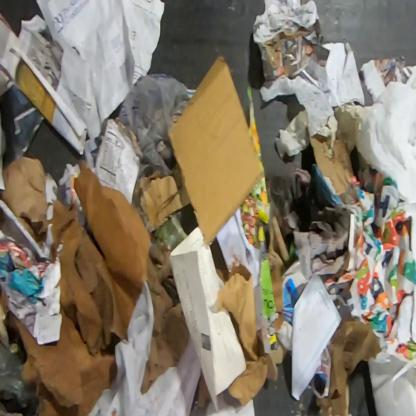cardboard: (0, 155, 152, 415), (166, 54, 264, 247), (216, 262, 290, 408), (315, 318, 384, 415), (299, 42, 366, 109), (138, 162, 190, 234), (304, 128, 355, 196), (264, 213, 293, 332)
soft_plastic: (355, 65, 415, 202), (117, 72, 190, 179), (0, 339, 40, 415)
